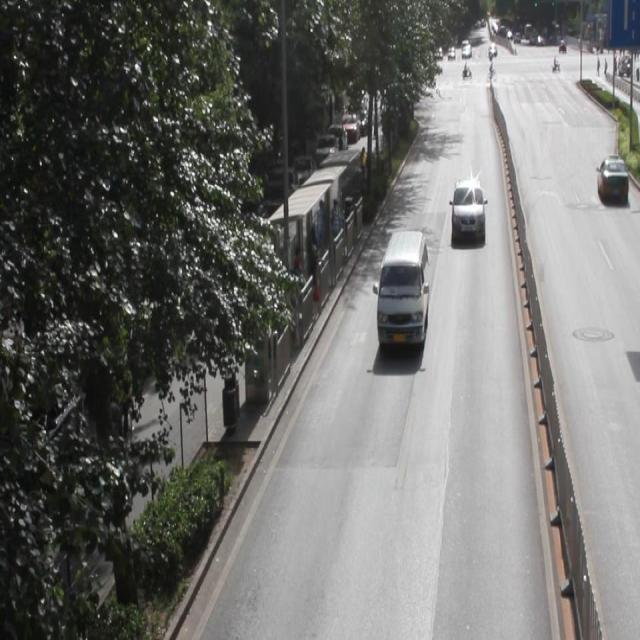car: (449, 178, 483, 237), (594, 155, 626, 202)
truck: (375, 229, 428, 346)
